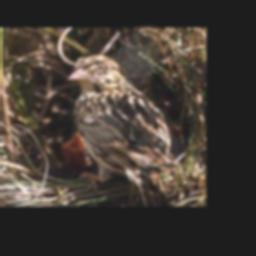Sparrow: (65, 54, 179, 205)
